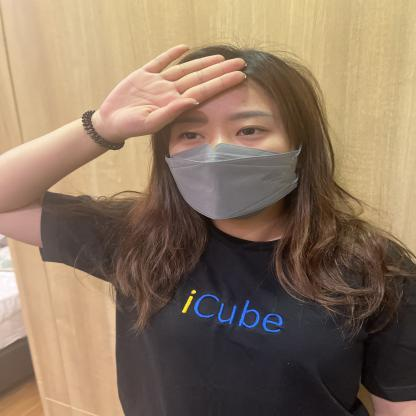Sick: (46, 22, 307, 160)
